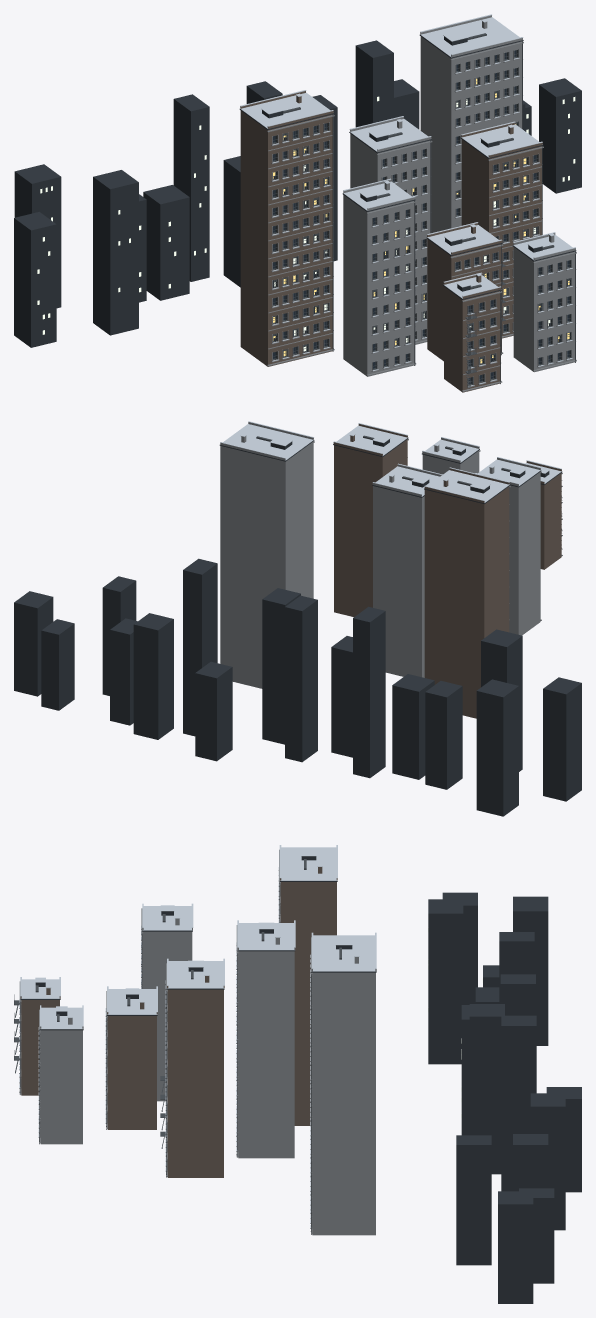
File: winter-city.glb
3 renders of one model, top to bottom at view 1: azimuth 30°, elevation 25°; view 2: azimuth 150°, elevation 25°; view 3: azimuth 270°, elevation 25°, orthographic. The views are drawn at different scales.
Parts seen in each view (by area): view 1: Winter limestone, Winter dark roof, Winter masonry, Winter snow, Window shade, Winter metal, Winter glass, Window ivory, Window amber; view 2: Winter dark roof, Winter limestone, Winter masonry, Winter snow; view 3: Winter dark roof, Winter limestone, Winter masonry, Winter snow, Winter metal.
Part boxes in pixels (box(x1,y1,x2,y2)): Winter limestone: box(267, 15, 576, 391); Winter dark roof: box(14, 35, 581, 360); Winter masonry: box(240, 91, 542, 392); Winter snow: box(240, 14, 575, 386); Window shade: box(273, 50, 571, 385); Winter metal: box(273, 33, 576, 388); Winter glass: box(273, 50, 569, 384); Window ivory: box(37, 96, 575, 351); Window amber: box(273, 78, 569, 363); Winter dark roof: box(14, 437, 581, 816); Winter limestone: box(220, 422, 562, 688); Winter masonry: box(333, 424, 561, 718); Winter snow: box(220, 421, 561, 502); Winter dark roof: box(20, 856, 581, 1303); Winter limestone: box(19, 849, 376, 1235); Winter masonry: box(20, 867, 337, 1177); Winter snow: box(19, 845, 376, 1227); Winter metal: box(14, 859, 341, 1234).
Bounding box in the file's own units: 97.33 × 42.44 × 80.49.
